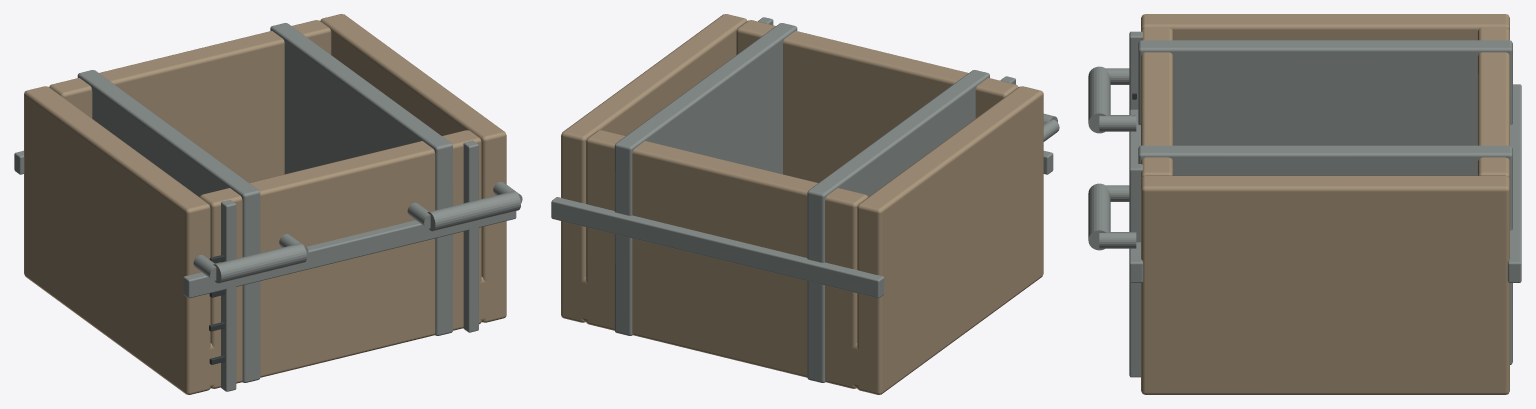
File: coastal-saltworks-and-trade-port-coastal-saltworks-and-84edc59c__31401.glb
The picture shows the model from 3 angles, left to right: view 1: azimuth 30°, elevation 25°; view 2: azimuth 150°, elevation 25°; view 3: azimuth 270°, elevation 25°; orthographic projection. The views are drawn at different scales.
Visible parts, largest first — view 1: coastal-saltworks-and-trade-port-salt-measure-box; view 2: coastal-saltworks-and-trade-port-salt-measure-box; view 3: coastal-saltworks-and-trade-port-salt-measure-box.
Part boxes in pixels (x1,y1,x2,y2): coastal-saltworks-and-trade-port-salt-measure-box: (14, 14, 522, 394); coastal-saltworks-and-trade-port-salt-measure-box: (551, 14, 1059, 394); coastal-saltworks-and-trade-port-salt-measure-box: (1088, 14, 1521, 394).
Size of the model in its own units: 0.46 by 0.254 by 0.4695.
